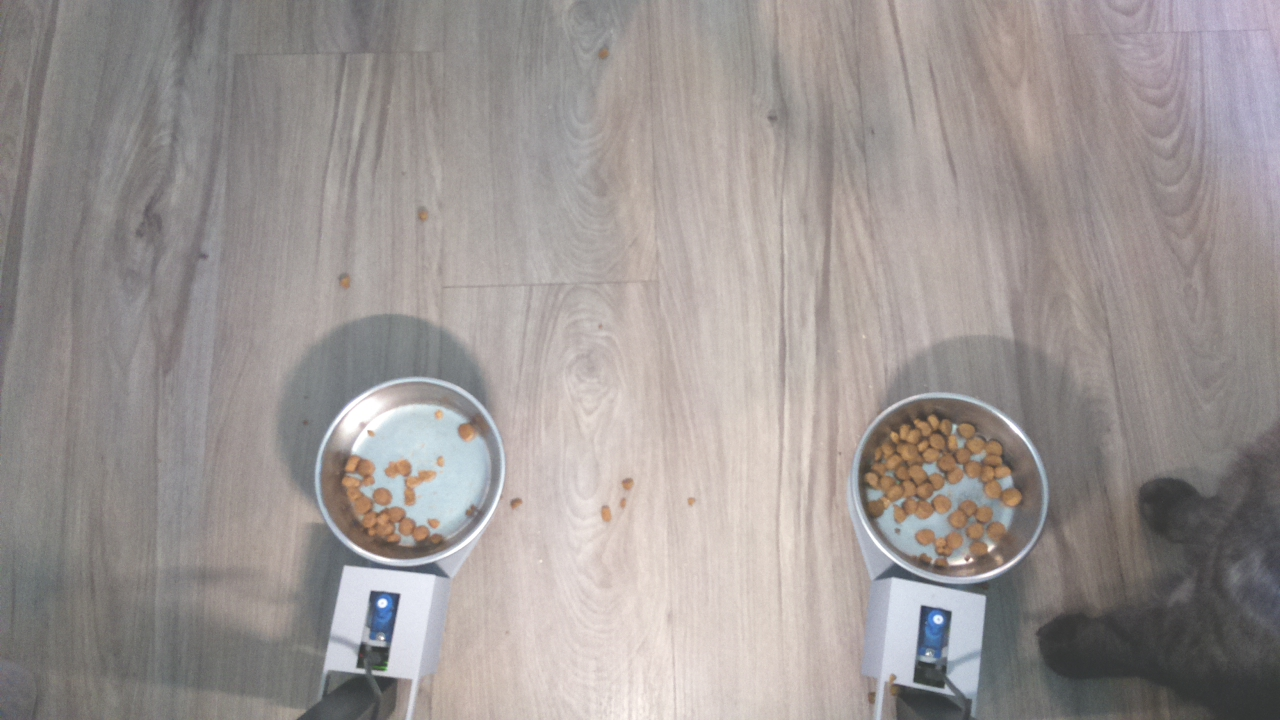open_bowl: (845, 391, 1050, 587), (313, 375, 507, 570)
